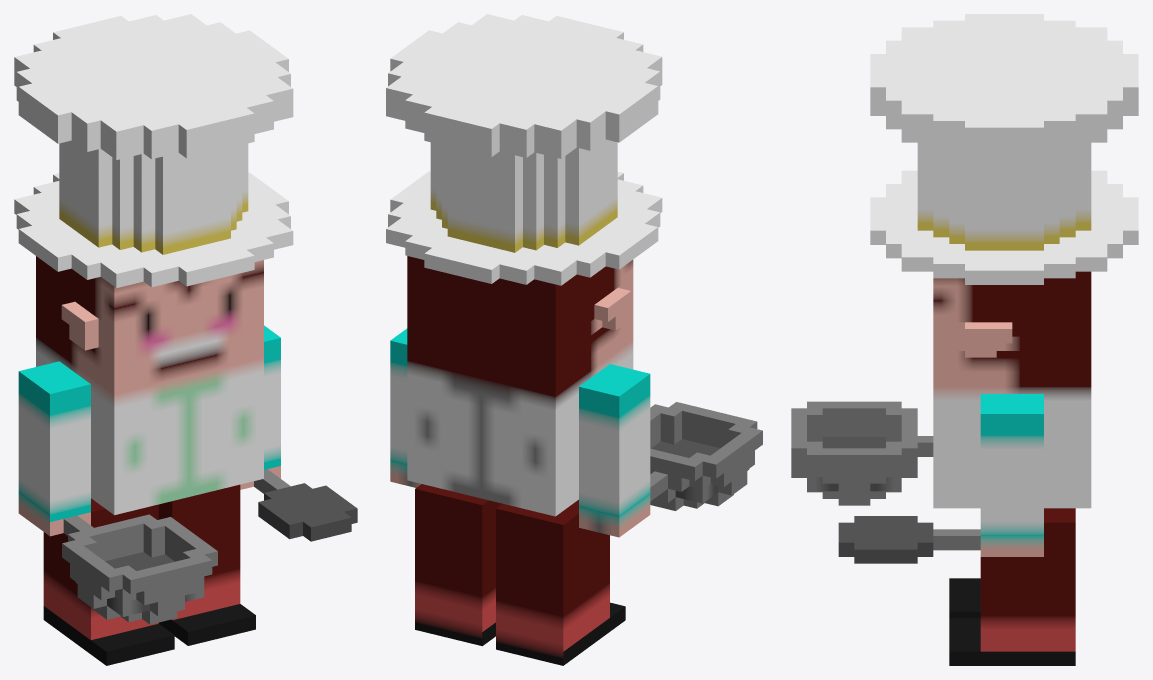
File: Frank.fbx
3 views of the same model, side by side, from view 1: azimuth 30°, elevation 25°; view 2: azimuth 150°, elevation 25°; view 3: azimuth 270°, elevation 25° (orthographic).
Parts seen in each view (by area): view 1: Main, RightHand, LeftFoot, RightFoot, LeftHand; view 2: Main, RightHand, RightFoot, LeftFoot, LeftHand; view 3: Main, LeftHand, LeftFoot, RightHand, RightFoot.
Boxes of the visible parts, left/top/right/bottom form: Main: left=14, top=14, right=293, bottom=515; RightHand: left=18, top=361, right=217, bottom=624; LeftFoot: left=158, top=484, right=255, bottom=645; RightFoot: left=43, top=498, right=174, bottom=665; LeftHand: left=240, top=325, right=357, bottom=541; Main: left=386, top=14, right=662, bottom=516; RightHand: left=579, top=364, right=762, bottom=537; RightFoot: left=496, top=499, right=625, bottom=665; LeftFoot: left=415, top=484, right=501, bottom=646; LeftHand: left=390, top=328, right=420, bottom=487; Main: left=870, top=14, right=1138, bottom=508; LeftHand: left=838, top=394, right=1043, bottom=563; LeftFoot: left=949, top=508, right=1075, bottom=665; RightHand: left=791, top=401, right=933, bottom=505; RightFoot: left=949, top=578, right=980, bottom=618.
Size of the model in its own units: 20 by 39 by 22.
1 material, 1 textured.
